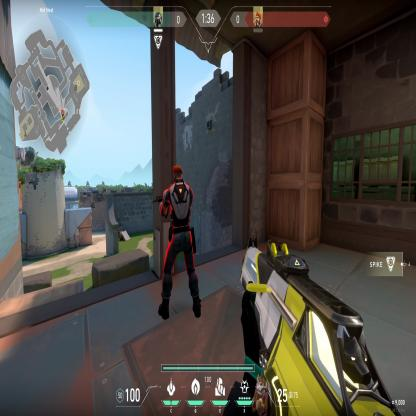enemy: (152, 163, 206, 326)
